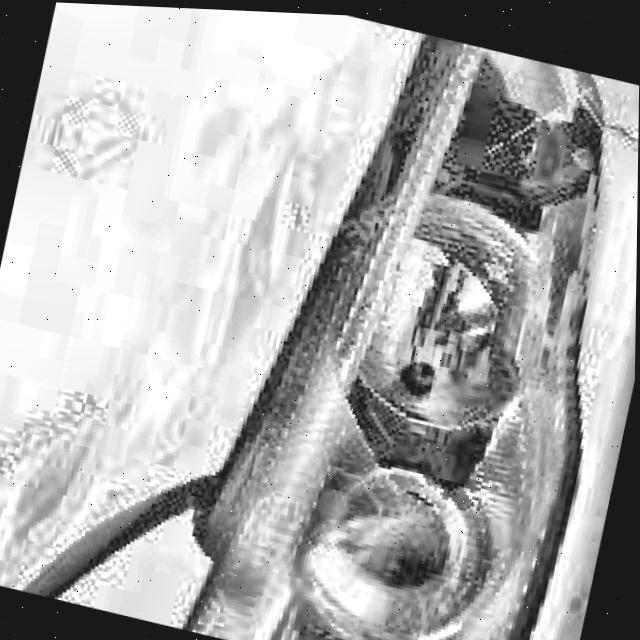head_lamp: (322, 28, 599, 524)
